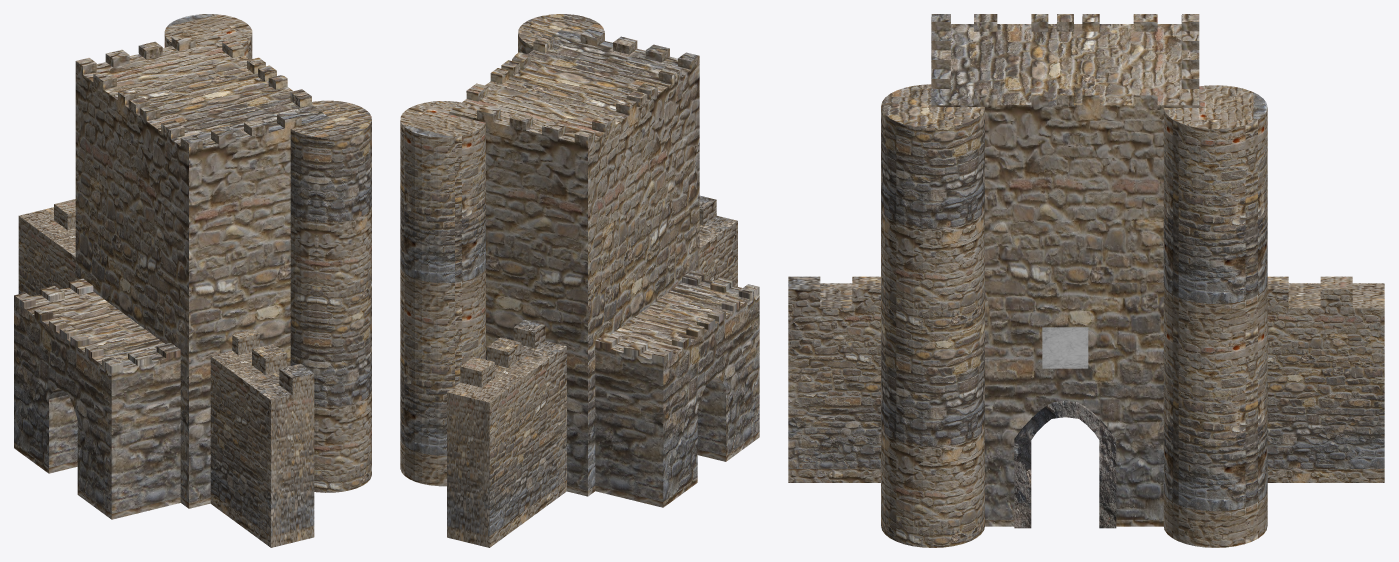
The model's file is Puerta de Valencia.fbx.
3 views of the same model, side by side, from view 1: azimuth 30°, elevation 25°; view 2: azimuth 150°, elevation 25°; view 3: azimuth 270°, elevation 25° (orthographic). The views are drawn at different scales.
Parts seen in each view (by area): view 1: Cube, Cylinder, Cube.004, Cube.001, Cylinder.001; view 2: Cube, Cylinder.001, Cube.001, Cube.004, Cylinder; view 3: Cube, Cylinder.001, Cylinder, Cube.001, Cube.004, Cube.002, Cube.003.
Boxes of the visible parts, x1,y1,x2,y2 form: Cube: (14,33,329,519); Cylinder: (290,100,371,492); Cube.004: (210,329,314,547); Cube.001: (18,199,75,296); Cylinder.001: (164,14,252,59); Cube: (449,28,759,507); Cylinder.001: (400,101,485,486); Cube.001: (447,320,566,547); Cube.004: (699,195,737,286); Cylinder: (518,14,604,53); Cube: (931,14,1199,526); Cylinder.001: (1163,85,1267,547); Cylinder: (881,84,984,547); Cube.001: (1267,276,1384,482); Cube.004: (788,276,880,482); Cube.002: (1014,401,1116,528); Cube.003: (1042,327,1088,368).
Size of the model in its own units: 350 by 495 by 620.
